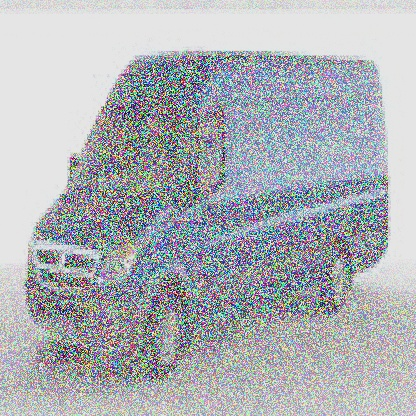Vehicle: (25, 51, 396, 393)
